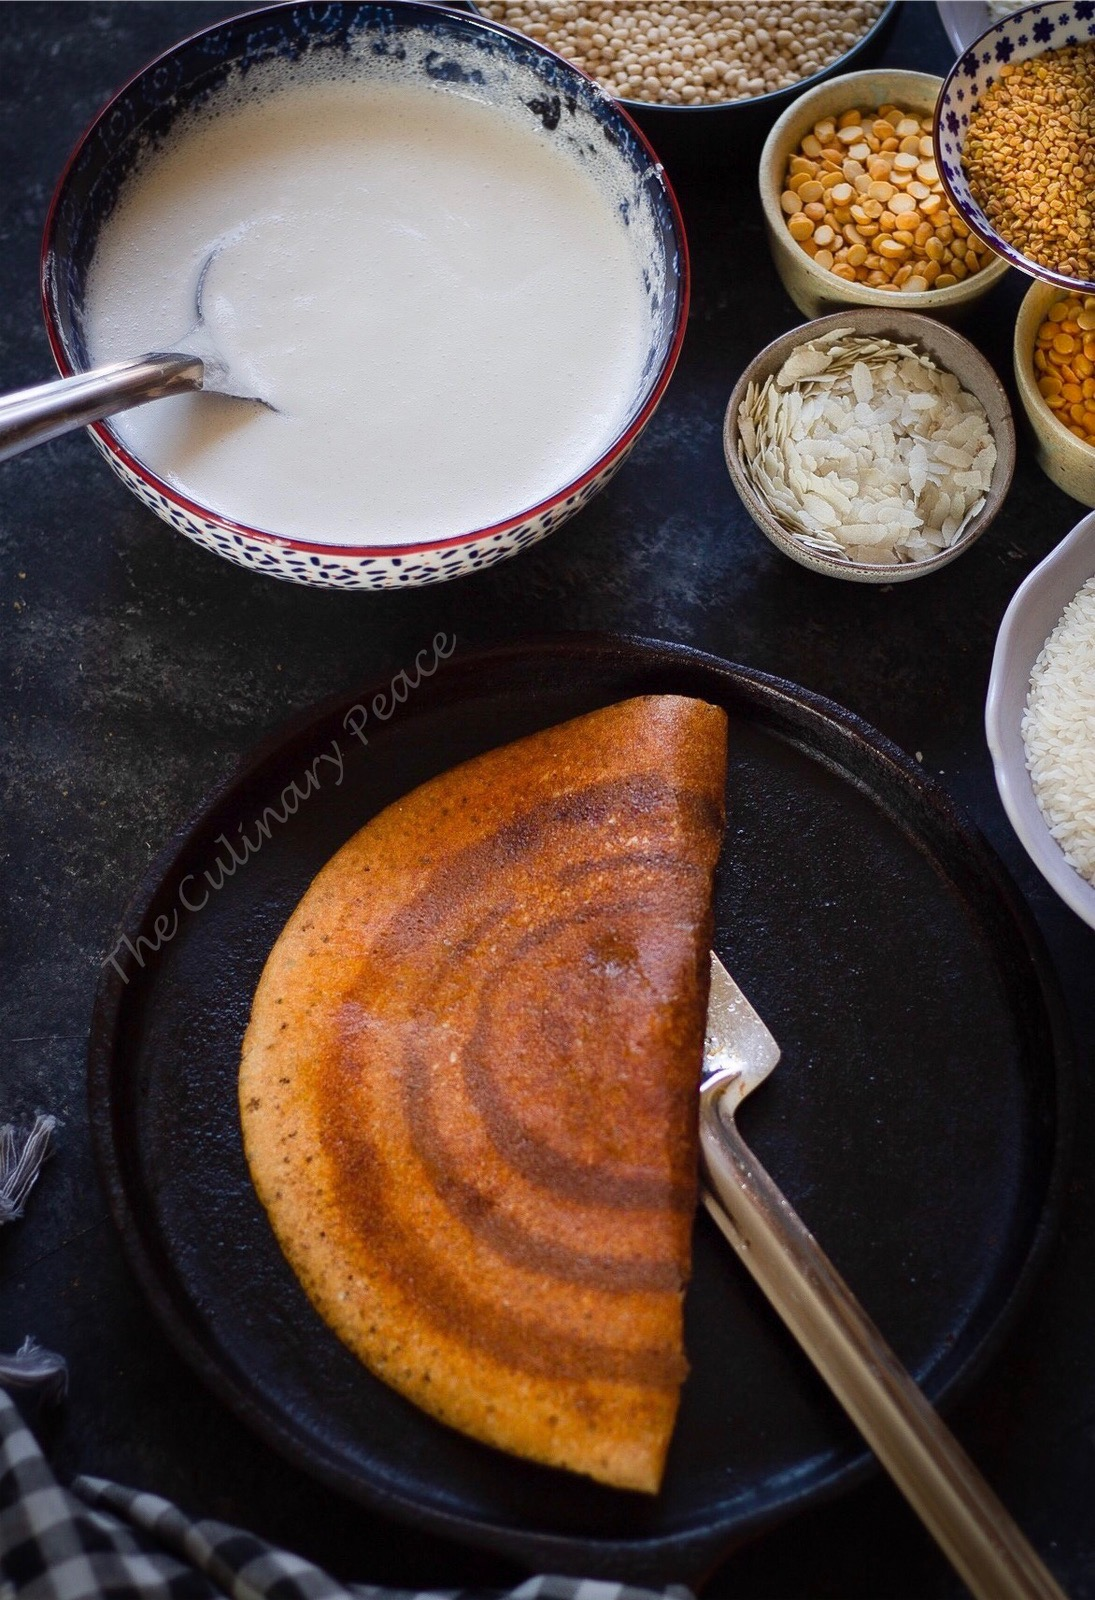dosa: (227, 686, 758, 1504)
